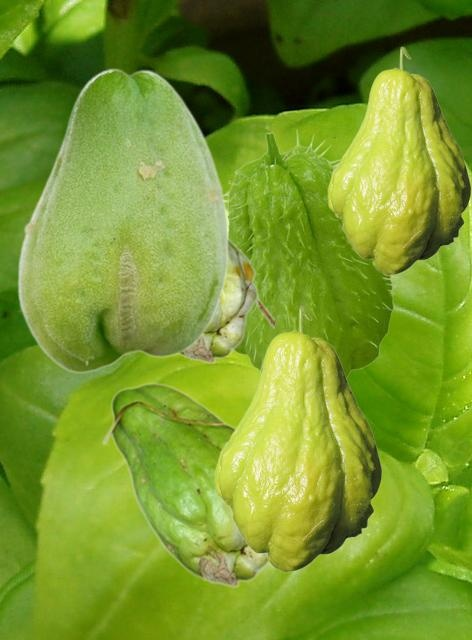sayote: (16, 67, 228, 372), (214, 305, 381, 571), (224, 128, 398, 377), (101, 382, 269, 587), (327, 46, 470, 274), (178, 237, 273, 363)
